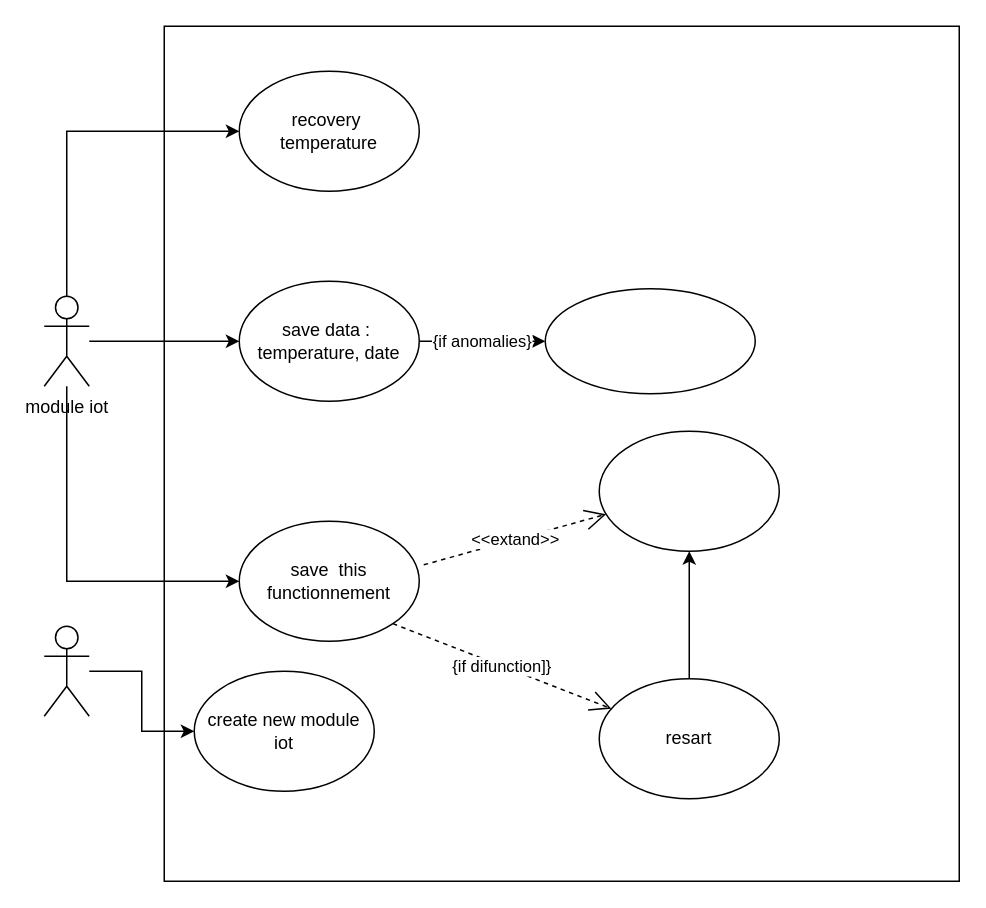
Image size: 986x908. Some labels were removed from this diagram. The shapes that lost their labels are listed below. From the top down, each one's box as (x1, y1, x2, y2) in pixels, then its label:
(544, 287, 755, 394): display alert
(598, 430, 779, 551): logs
(43, 625, 89, 716): user
